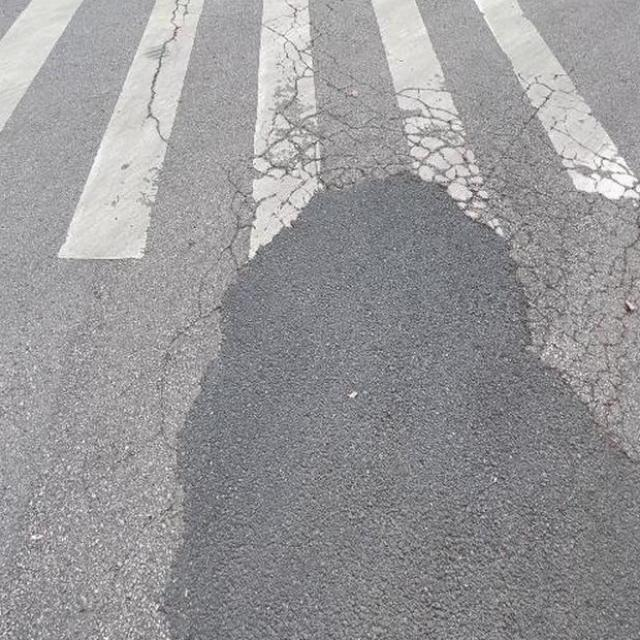Sambungan: (170, 173, 640, 633)
